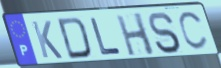C: (177, 10, 210, 53)
D: (56, 16, 94, 61)
H: (114, 11, 157, 57)
K: (30, 20, 65, 60)
L: (89, 16, 124, 57)
S: (147, 11, 183, 55)
